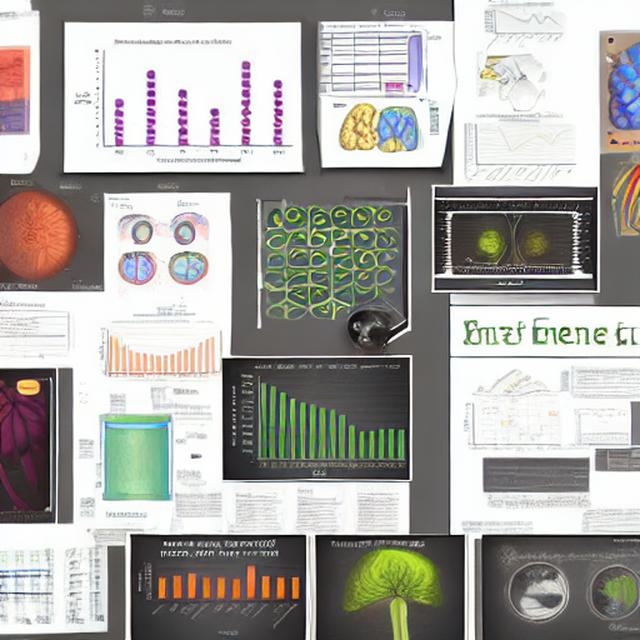Graph: (66, 34, 299, 169), (228, 362, 410, 479), (133, 537, 306, 640), (462, 112, 579, 183), (94, 319, 198, 384), (460, 392, 566, 455), (479, 0, 566, 52), (575, 407, 630, 439)
